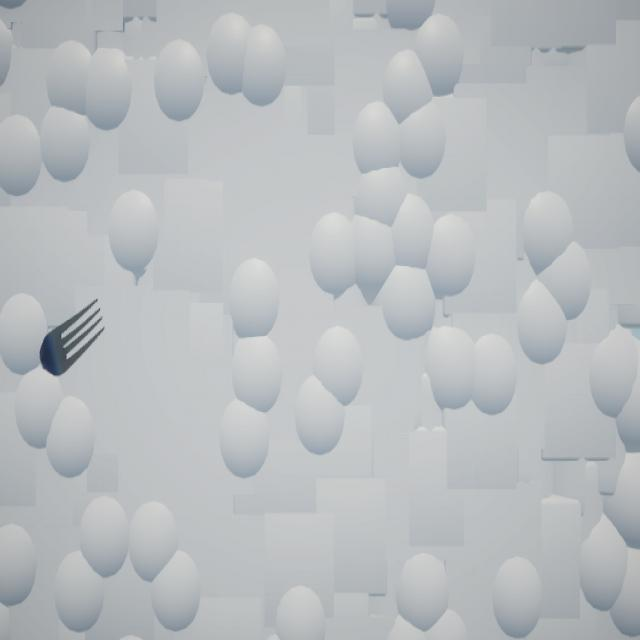top_folk: (40, 299, 106, 377)
